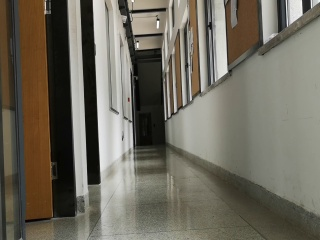room: (1, 3, 79, 237)
